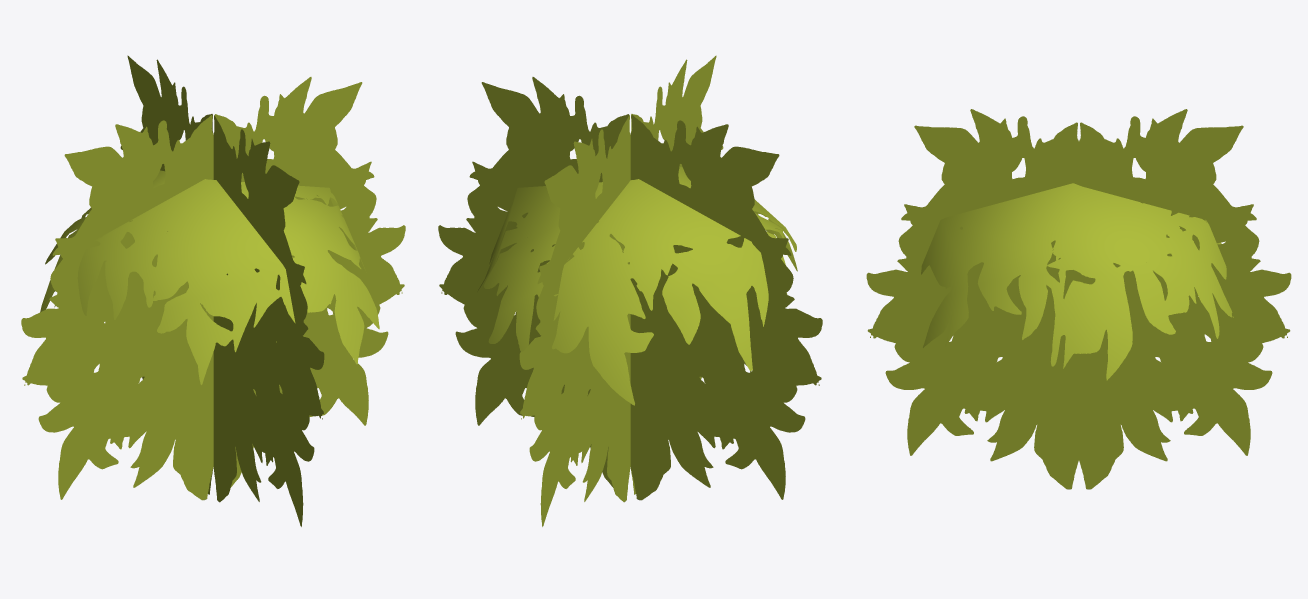
Rendered from bushMid.fbx.
3 views of the same model, side by side, from view 1: azimuth 30°, elevation 25°; view 2: azimuth 150°, elevation 25°; view 3: azimuth 270°, elevation 25° (orthographic). The views are drawn at different scales.
Parts seen in each view (by area): view 1: bushMid; view 2: bushMid; view 3: bushMid.
Boxes of the visible parts, x1,y1,x2,y2 form: bushMid: (21, 55, 405, 526); bushMid: (438, 55, 822, 526); bushMid: (866, 109, 1291, 489).
Bounding box in the file's own units: 174 × 174 × 174.
